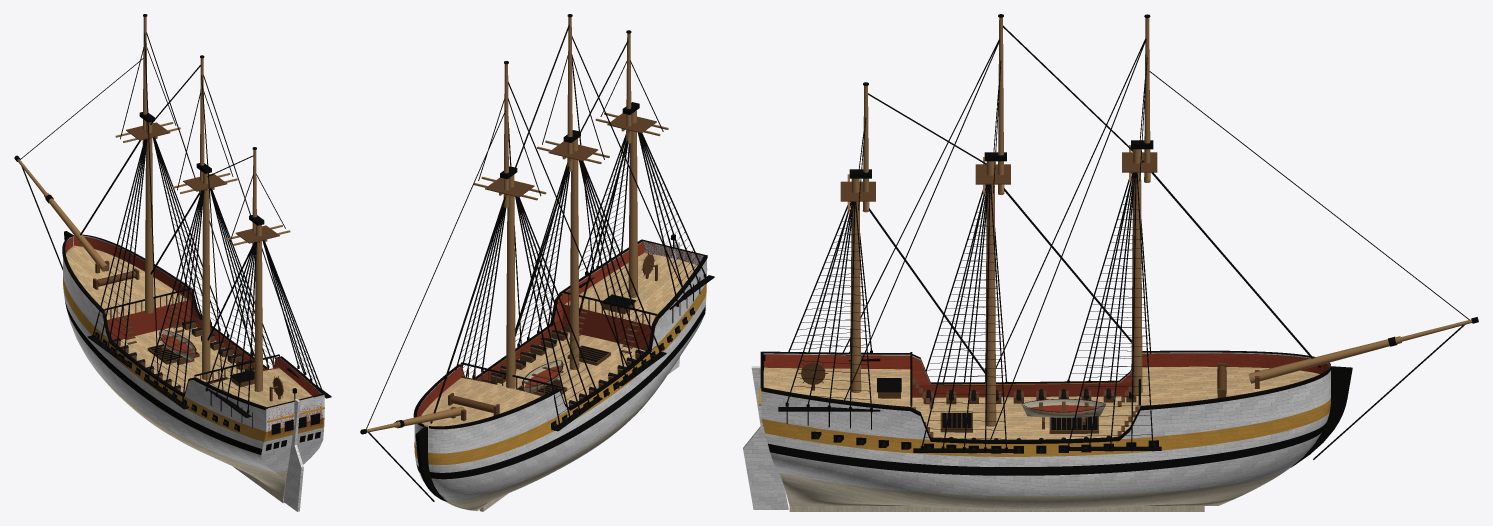
The model's file is pirate_frigate.glb.
3 views of the same model, side by side, from view 1: azimuth 30°, elevation 25°; view 2: azimuth 150°, elevation 25°; view 3: azimuth 270°, elevation 25° (orthographic). The views are drawn at different scales.
Visible parts, largest first — view 1: hull; view 2: hull; view 3: hull.
Part boxes in pixels (x1=…): hull: x1=14, y1=14, x2=331, y2=511; hull: x1=360, y1=14, x2=714, y2=511; hull: x1=743, y1=14, x2=1478, y2=511.
Size of the model in its own units: 9 by 31.11 by 41.85.
Materials: 9 (5 with a texture image).
